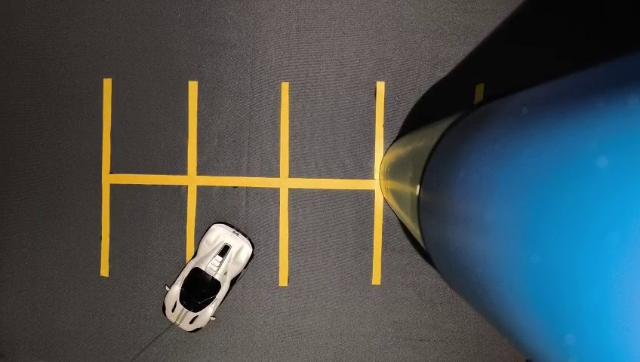toy_car: (151, 199, 267, 345)
